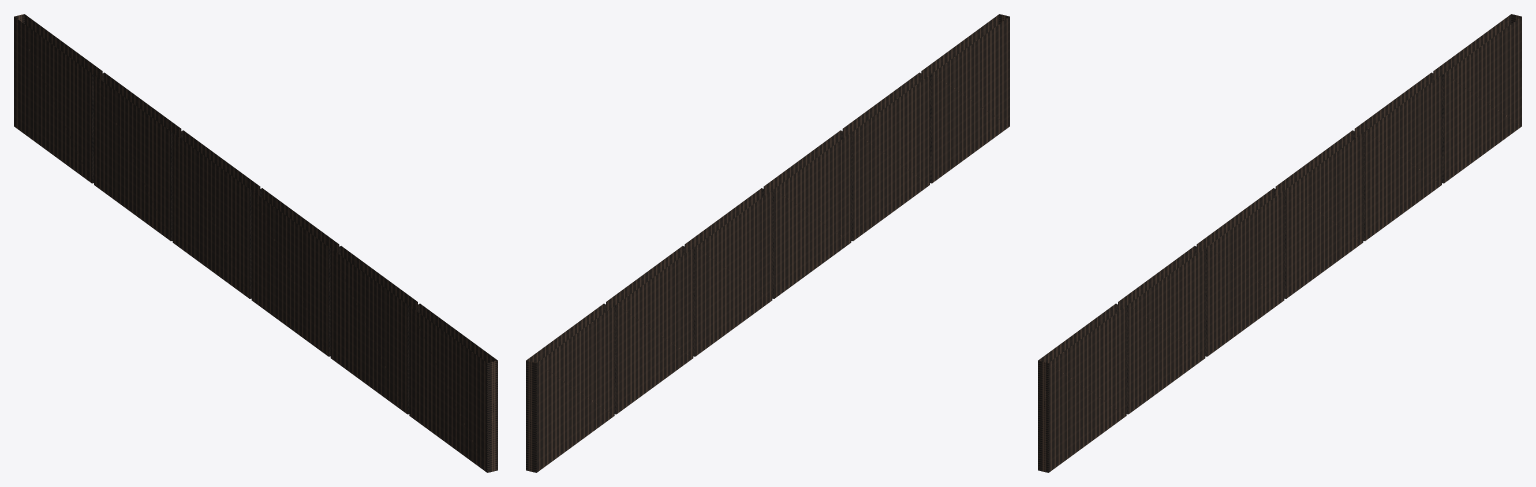
The model's file is aws_FenceMesh_01_visual.DAE.
3 renders of one model, left to right at view 1: azimuth 30°, elevation 25°; view 2: azimuth 150°, elevation 25°; view 3: azimuth 330°, elevation 25°, orthographic.
Parts seen in each view (by area): view 1: aws_FenceMesh_01_visual; view 2: aws_FenceMesh_01_visual; view 3: aws_FenceMesh_01_visual.
Boxes of the visible parts, x1,y1,x2,y2 form: aws_FenceMesh_01_visual: (14, 14, 497, 472); aws_FenceMesh_01_visual: (526, 14, 1009, 472); aws_FenceMesh_01_visual: (1038, 14, 1521, 472).
Size of the model in its own units: 6.66 by 519 by 66.56.
1 material, 1 textured.
